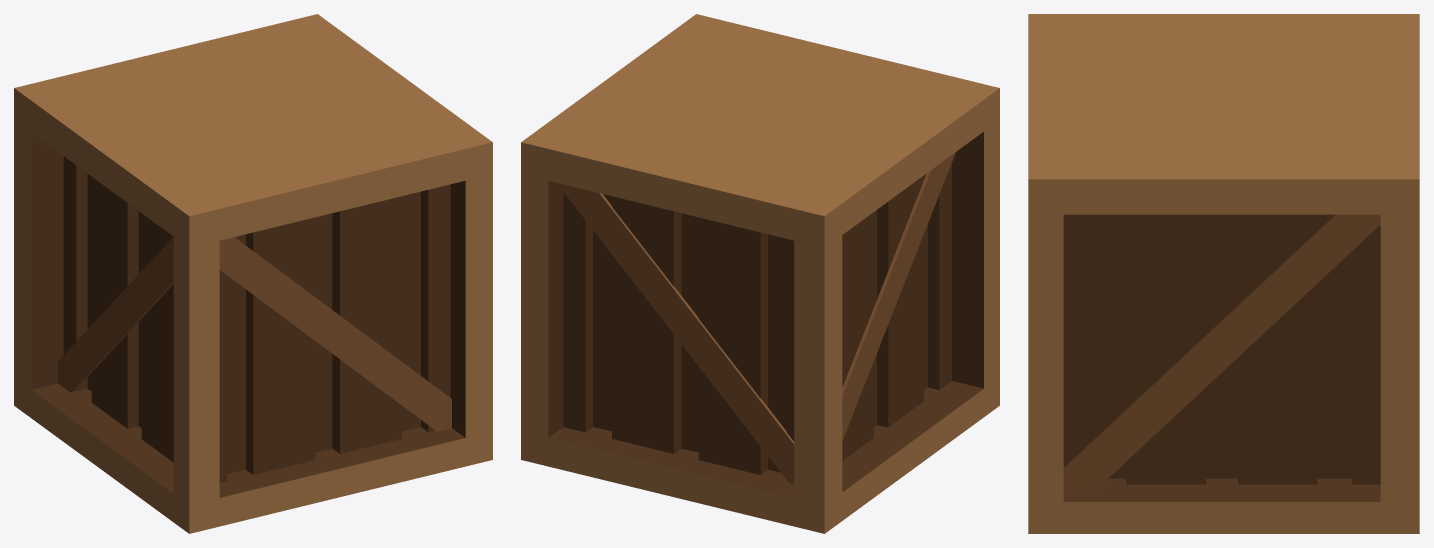
Rendered from Cajas.fbx.
3 views of the same model, side by side, from view 1: azimuth 30°, elevation 25°; view 2: azimuth 150°, elevation 25°; view 3: azimuth 270°, elevation 25° (orthographic). The views are drawn at different scales.
Parts seen in each view (by area): view 1: SM_Cajas; view 2: SM_Cajas; view 3: SM_Cajas.
Boxes of the visible parts, x1,y1,x2,y2 form: SM_Cajas: (14,14,492,533); SM_Cajas: (521,14,999,533); SM_Cajas: (1028,14,1419,533).
Bounding box in the file's own units: 100 × 100 × 100.
